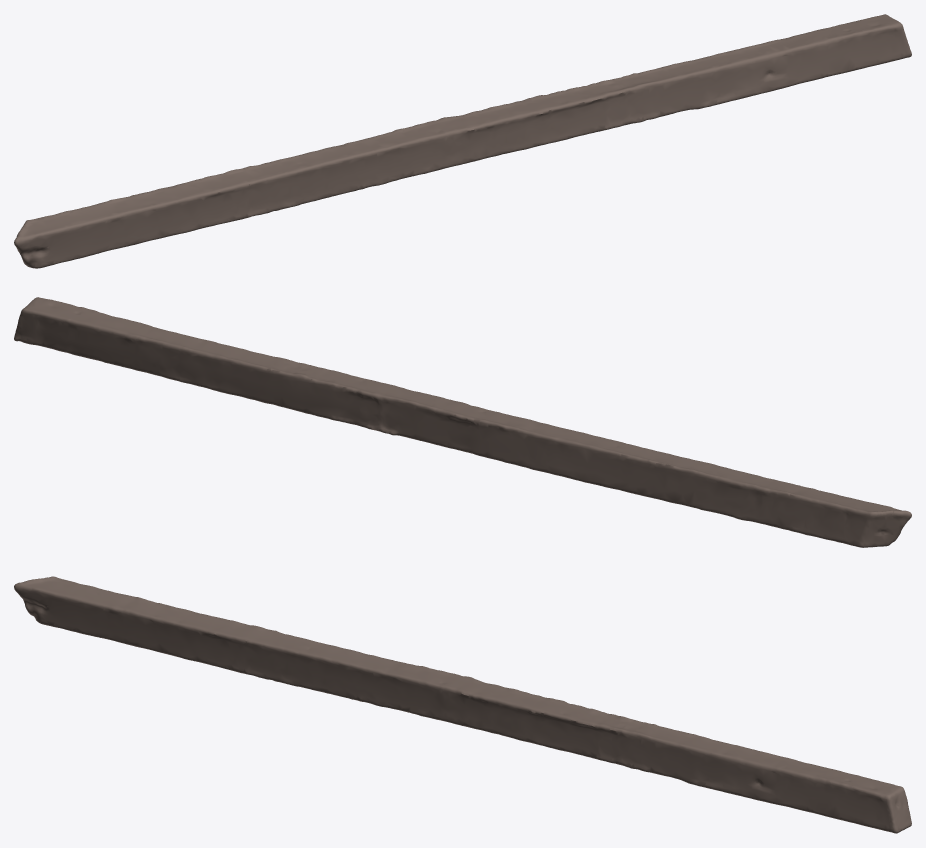
3 renders of one model, top to bottom at view 1: azimuth 30°, elevation 25°; view 2: azimuth 150°, elevation 25°; view 3: azimuth 330°, elevation 25°, orthographic.
Visible parts, largest first — view 1: Object_2; view 2: Object_2; view 3: Object_2.
Part boxes in pixels (x1=…): Object_2: x1=14, y1=14, x2=911, y2=268; Object_2: x1=14, y1=297, x2=911, y2=547; Object_2: x1=14, y1=576, x2=911, y2=833.
Bounding box in the file's own units: 1 × 0.0425 × 0.0383.
